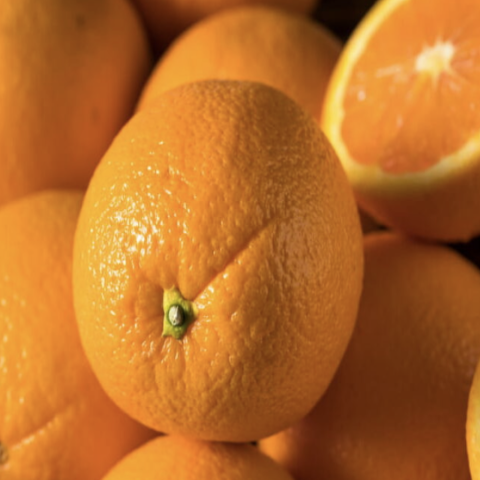orange: (37, 53, 377, 461)
